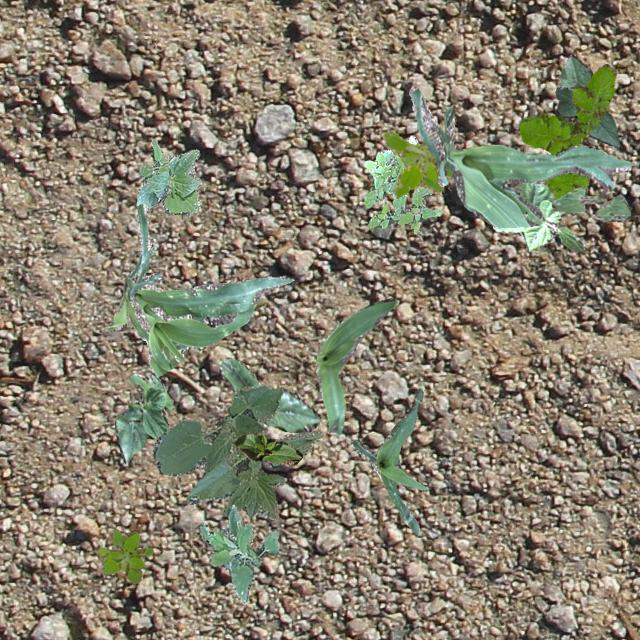crop: (104, 202, 292, 376), (408, 86, 632, 226), (152, 384, 322, 518), (350, 388, 428, 534), (314, 296, 396, 434), (218, 356, 320, 432), (492, 180, 584, 250), (554, 54, 618, 146), (114, 372, 172, 463), (136, 138, 200, 214), (550, 187, 630, 220), (232, 432, 302, 464)
weed: (518, 63, 618, 198), (196, 504, 278, 602), (364, 134, 442, 234), (382, 130, 452, 198), (96, 528, 152, 582)
